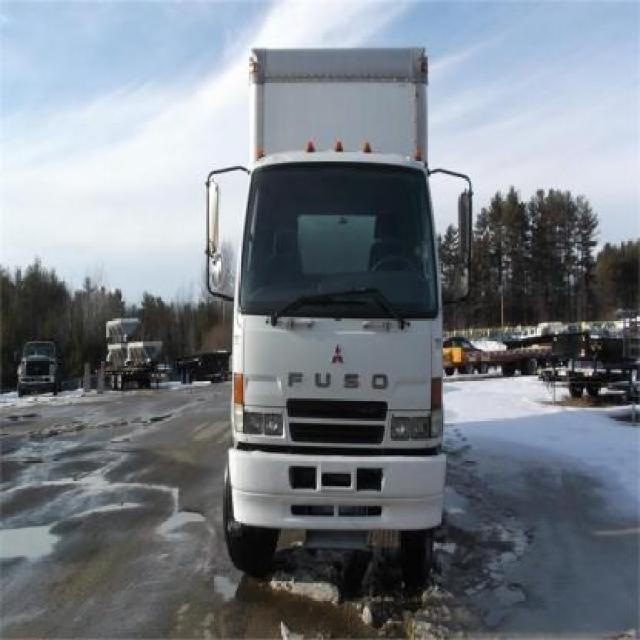truck: (205, 42, 476, 571)
